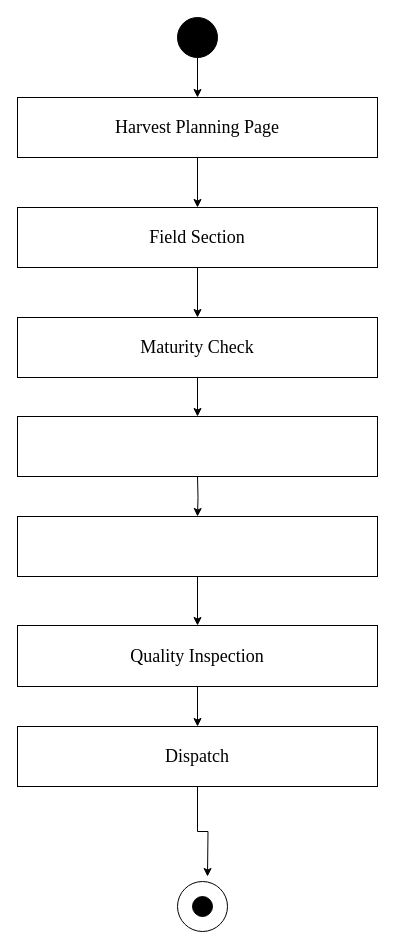
This 395x949 diagram has some shape labels left out. The box of each missing label's shape, as (x1, y1, x2, y2) in pixels:
Resource Planning: (16, 416, 378, 476)
Yield Collection: (16, 516, 378, 576)
